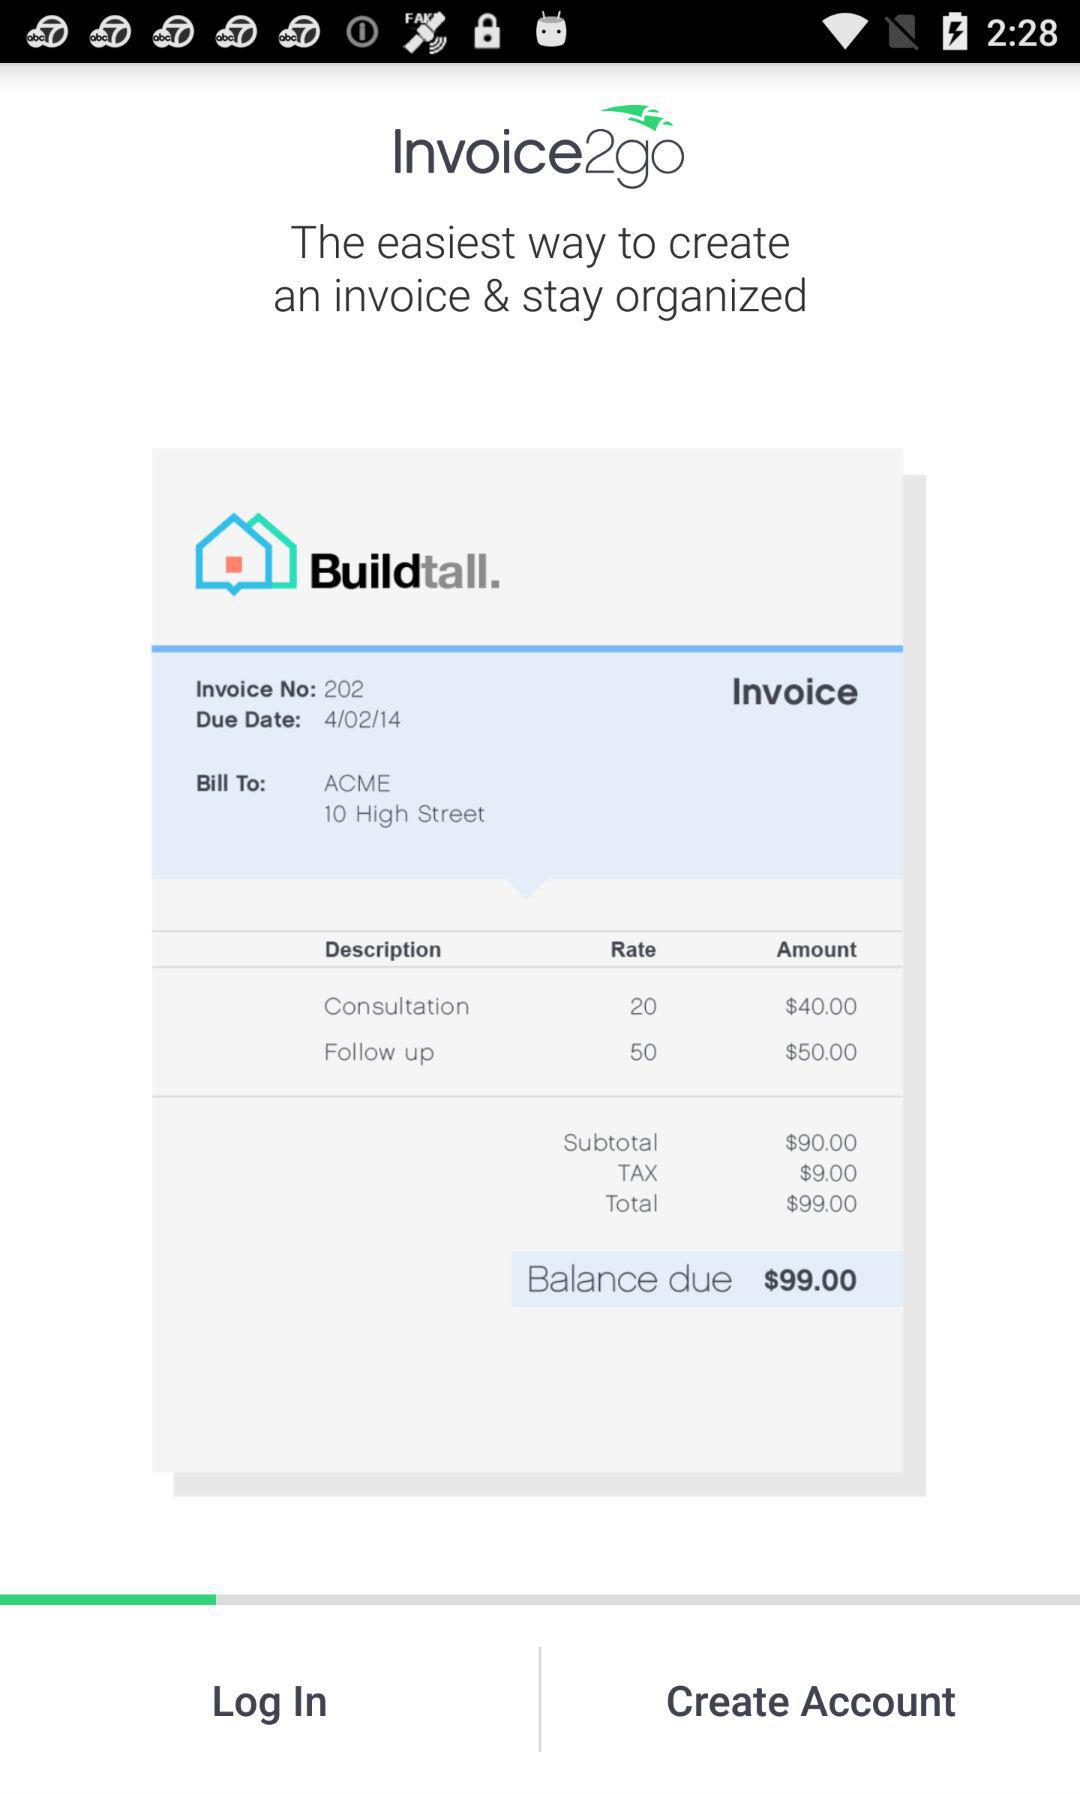Image: (151, 446, 926, 1495), (393, 103, 687, 192)
Text: (274, 224, 807, 323), (667, 1681, 960, 1720), (214, 1681, 328, 1727)
UpperTaskBar: (1, 1, 1080, 64)
